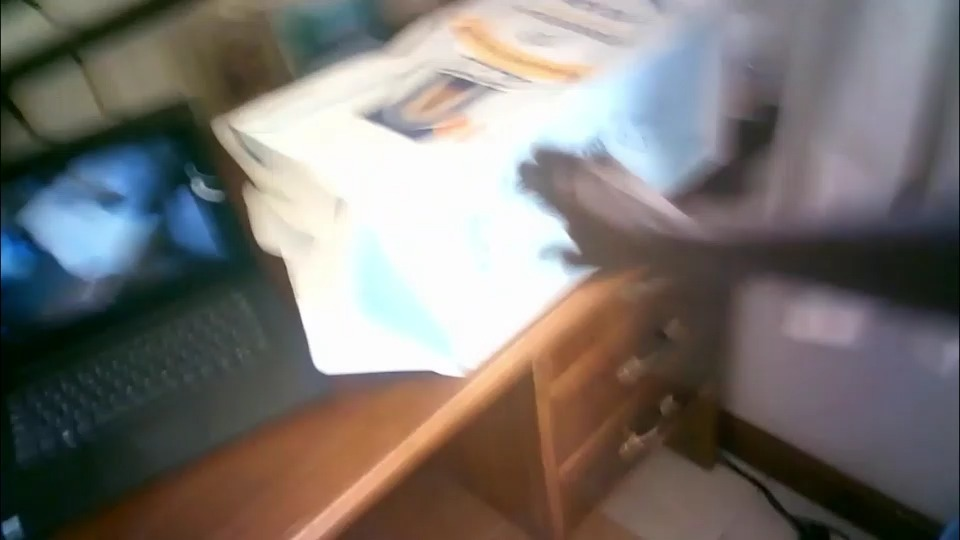wheat_flour_blue_label: (212, 2, 716, 367)
